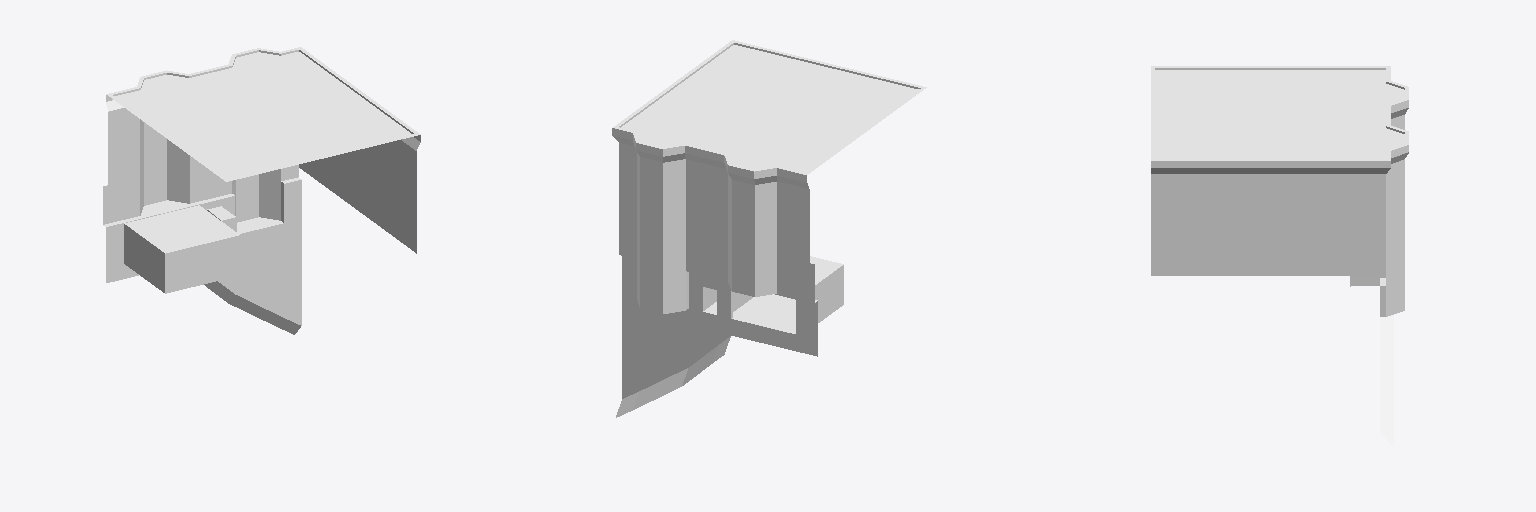
File: namas.obj
The picture shows the model from 3 angles: view 1: azimuth 30°, elevation 25°; view 2: azimuth 150°, elevation 25°; view 3: azimuth 270°, elevation 25°; orthographic projection.
Bounding box in the file's own units: 20.92 × 28.75 × 23.4.